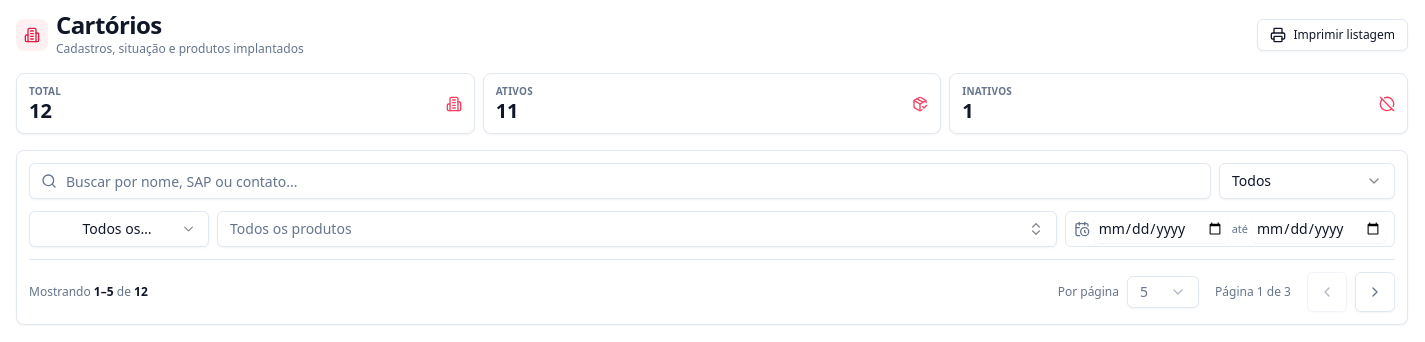
it: CS/CX — ações por permissão › pagina a lista de cartórios em blocos compactos
The width and height of the screenshot is (1425, 342).
Check: the element named "Mostrando 1 a 5 de 12 cartórios" is shown, box [29,284,148,300]
Click the button named "próxima página" at (1375, 292), box [1355,272,1395,312]
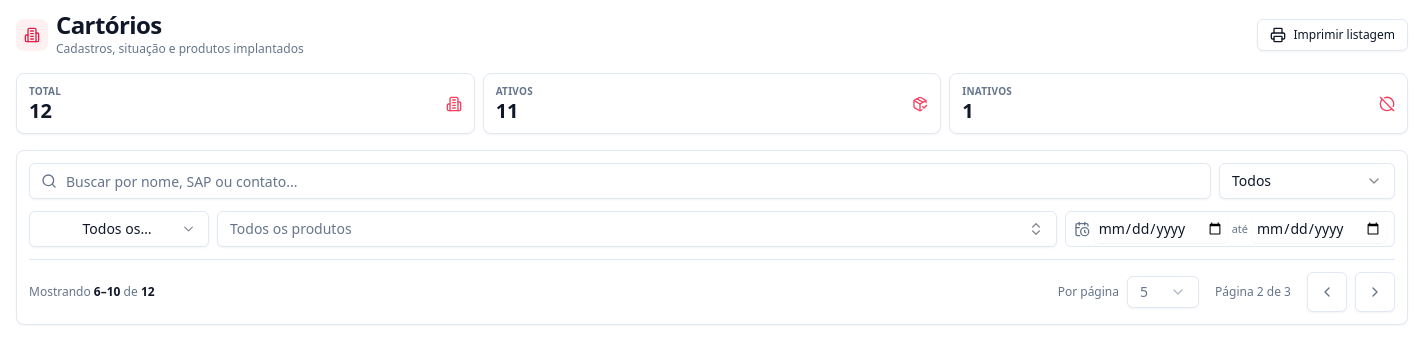
Check: the element named "Mostrando 6 a 10 de 12 cartórios" is shown, box [29,284,155,300]
